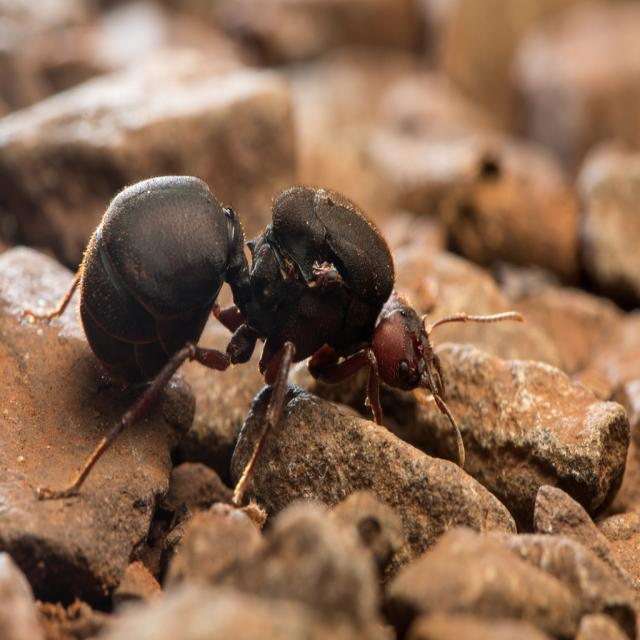Alive-Female-Dealate: (20, 173, 523, 508)
